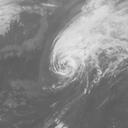cyclone: (50, 40, 79, 77)
